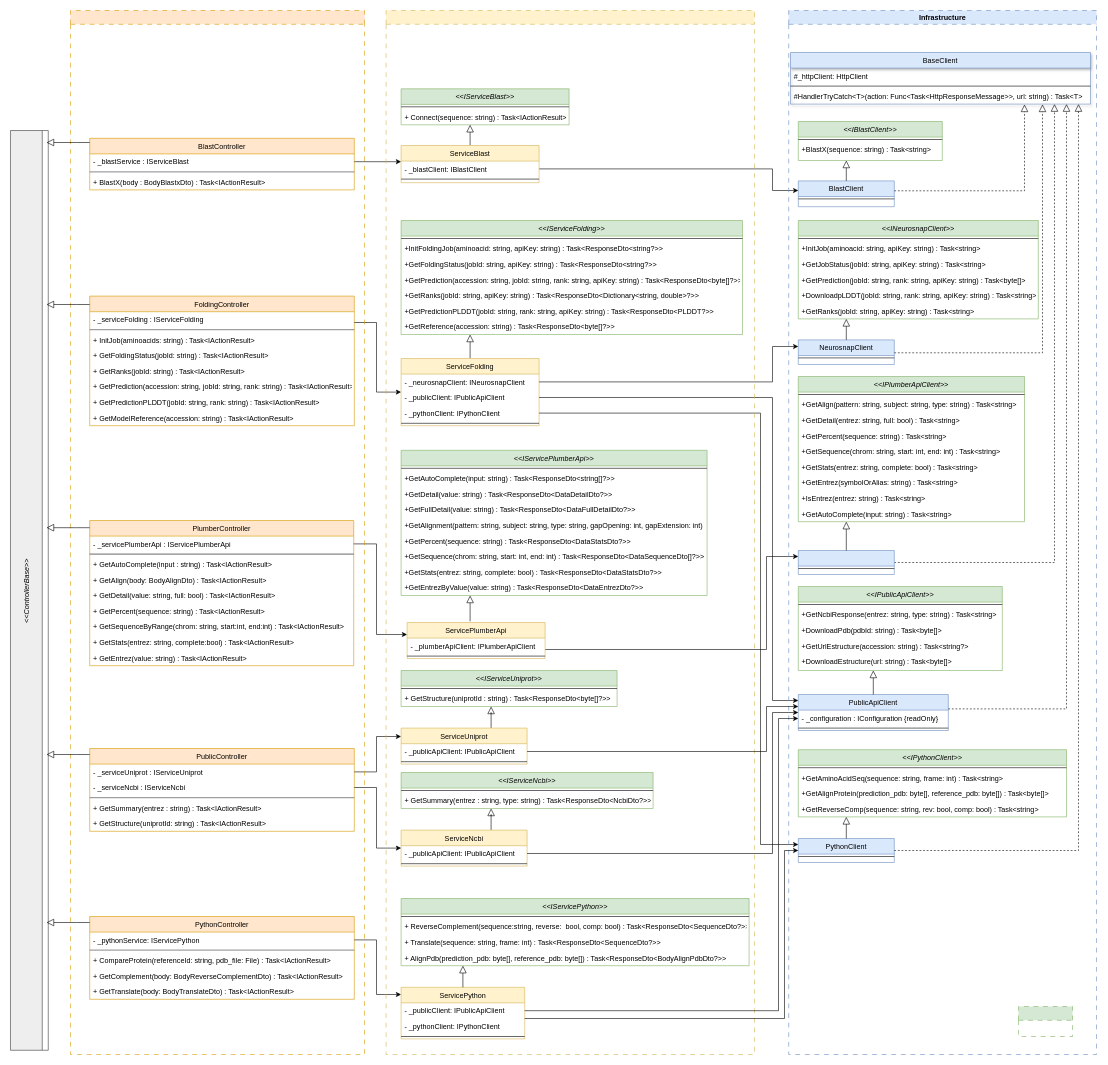
The diagram is 1108 pixels wide and 1065 high, and some of its shapes have lost their labels. Here are the shapes that lost their labels. From the top down, the centre of each, then its label:
At point 217,532: "Presentation".
At point 570,532: "Application".
At point 846,562: "PlumberApiClient".
At point 1045,1021: "Domain".
